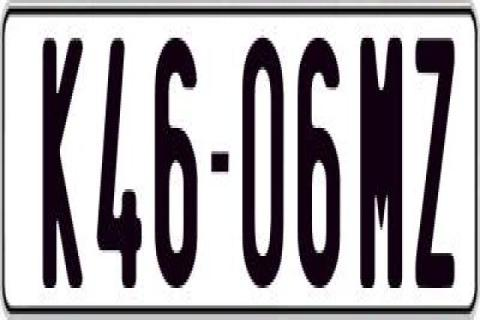0: (97, 32, 147, 288), (240, 35, 288, 297), (296, 29, 344, 279), (155, 32, 201, 282)
K: (43, 29, 86, 294)
M: (358, 38, 406, 297)
Z: (414, 29, 458, 279)
